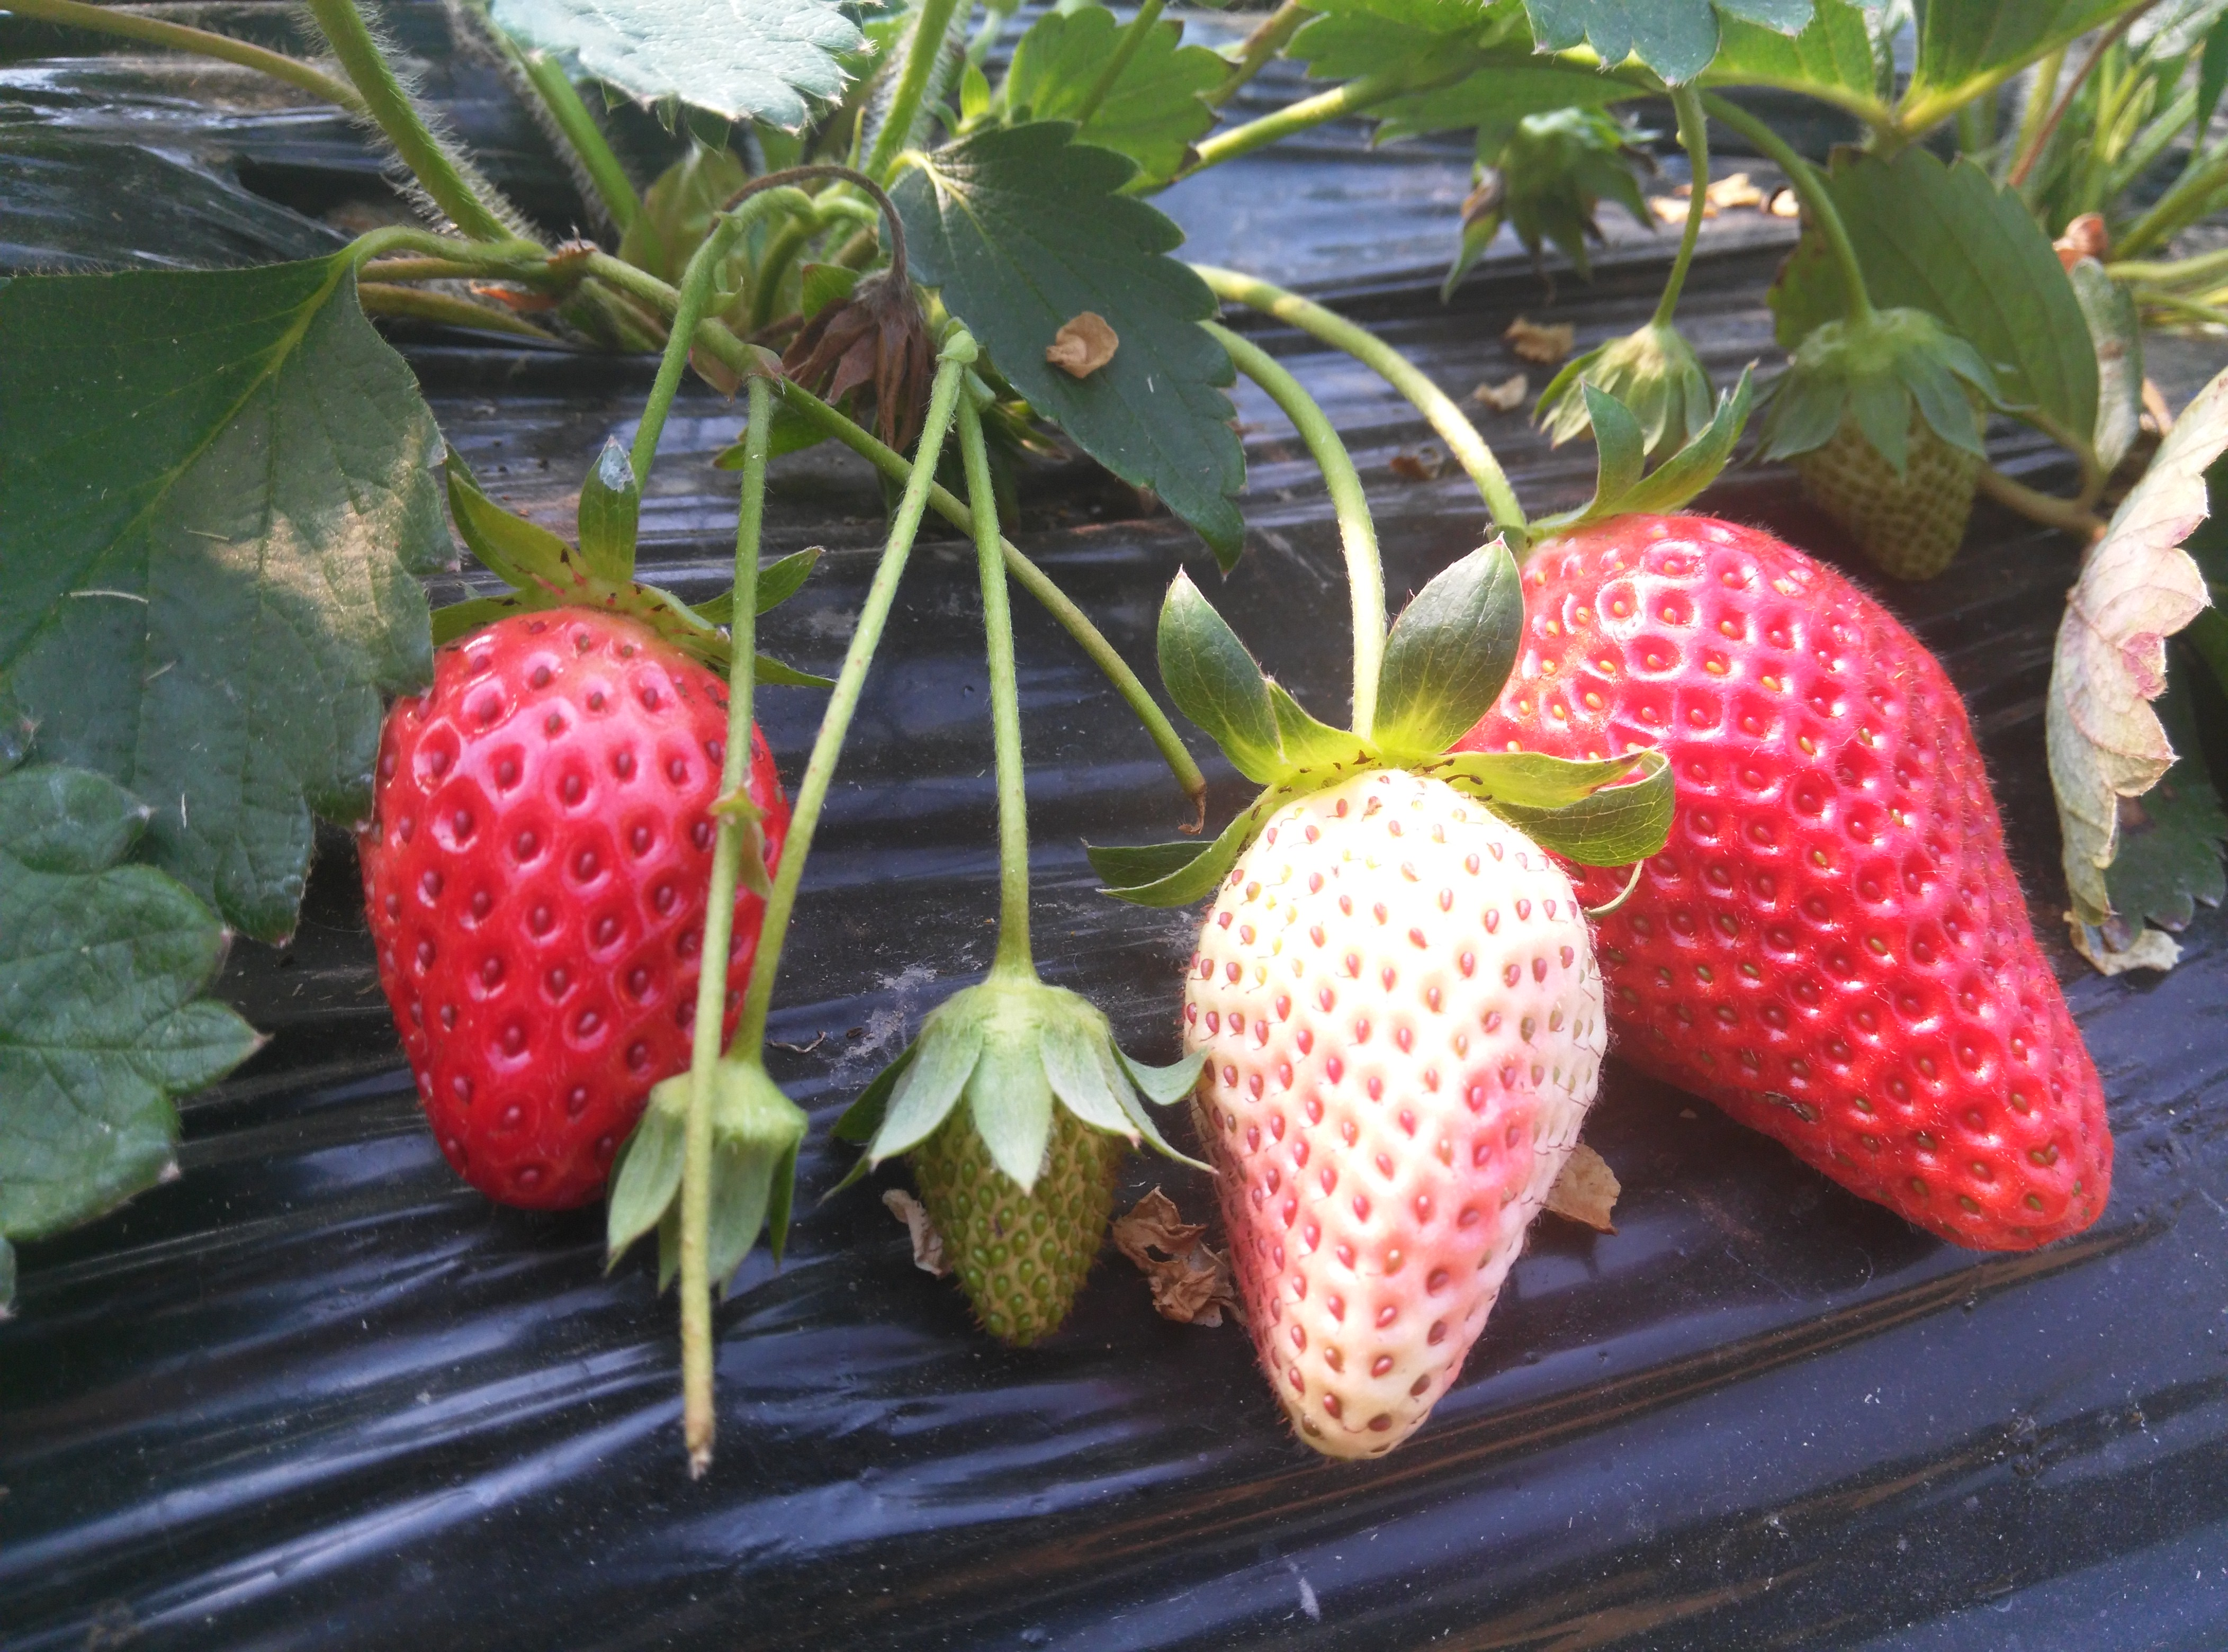StrawberryCone: (1442, 484, 2124, 1279), (345, 600, 790, 1225)
StrawberryIrremovable: (1190, 755, 1610, 1466), (894, 989, 1140, 1352), (1780, 324, 1992, 581)
StrawberryRemovable: (1449, 493, 2120, 1274), (347, 604, 784, 1223)
